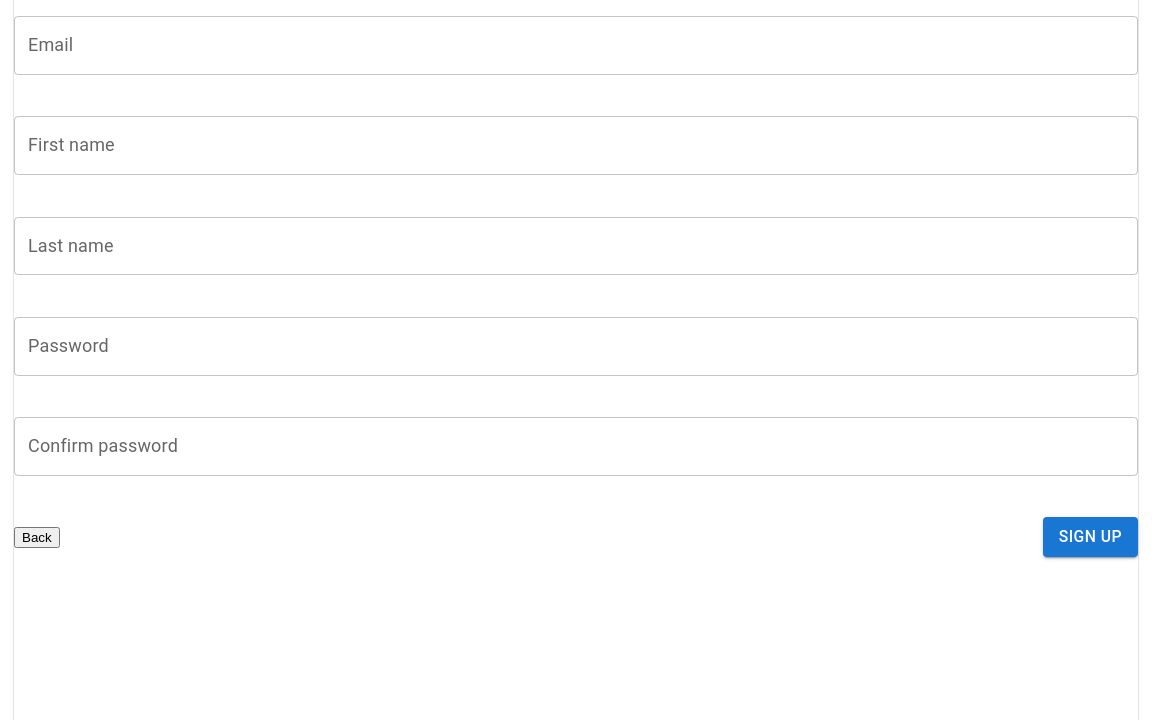
SignupForm › shows validation errors when submitted empty
The image size is (1152, 720).
Click the button "Sign Up": {"x": 1090, "y": 537} [1043, 517, 1138, 557]
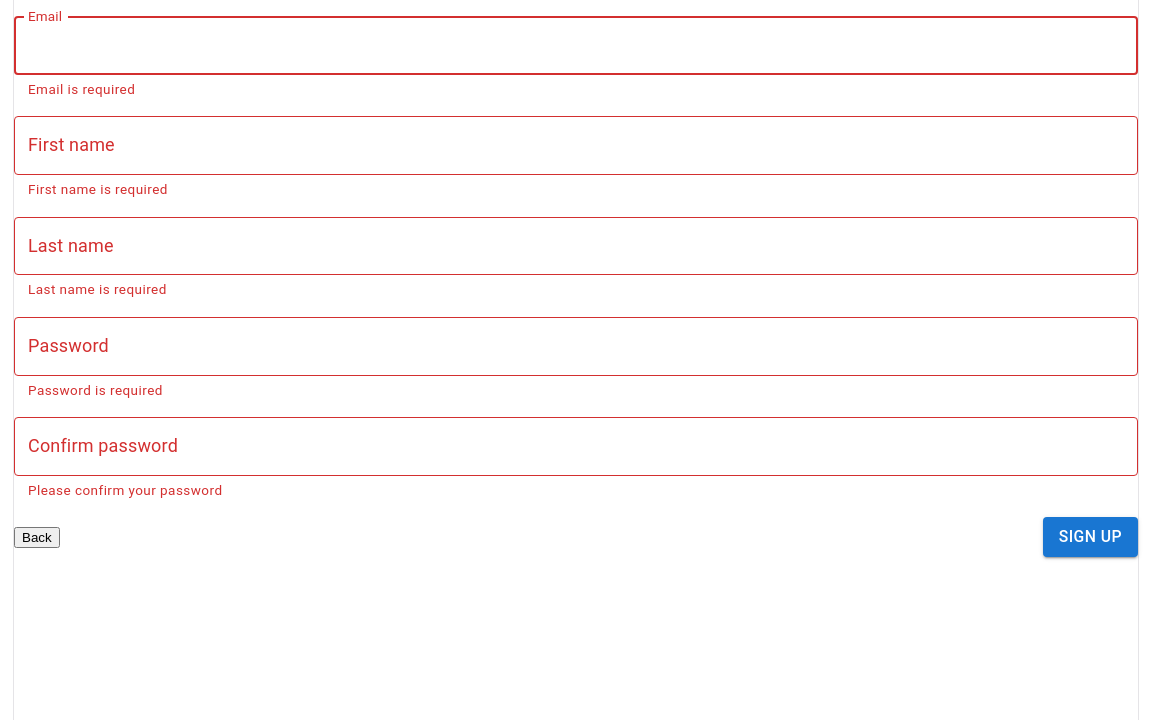
Check: the text "Email is required" is shown, box [28, 81, 135, 97]
Check: the text "First name is required" is shown, box [28, 181, 168, 197]
Check: the text "Last name is required" is shown, box [28, 281, 167, 297]
